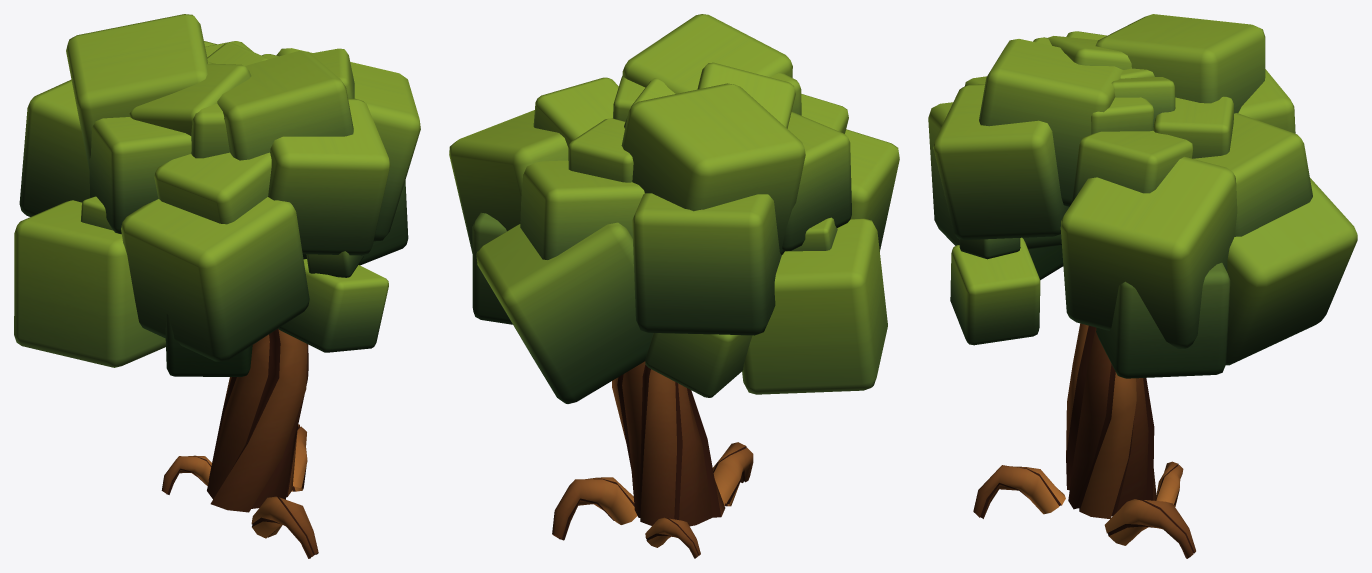
File: SquareTree.fbx
3 views of the same model, side by side, from view 1: azimuth 30°, elevation 25°; view 2: azimuth 150°, elevation 25°; view 3: azimuth 270°, elevation 25° (orthographic).
Visible parts, largest first — view 1: SquareTree; view 2: SquareTree; view 3: SquareTree.
Part boxes in pixels (box(x1,y1,x2,y2)): SquareTree: box(14, 14, 420, 558); SquareTree: box(449, 14, 899, 558); SquareTree: box(928, 14, 1357, 558).
Bounding box in the file's own units: 601 × 661 × 551.
